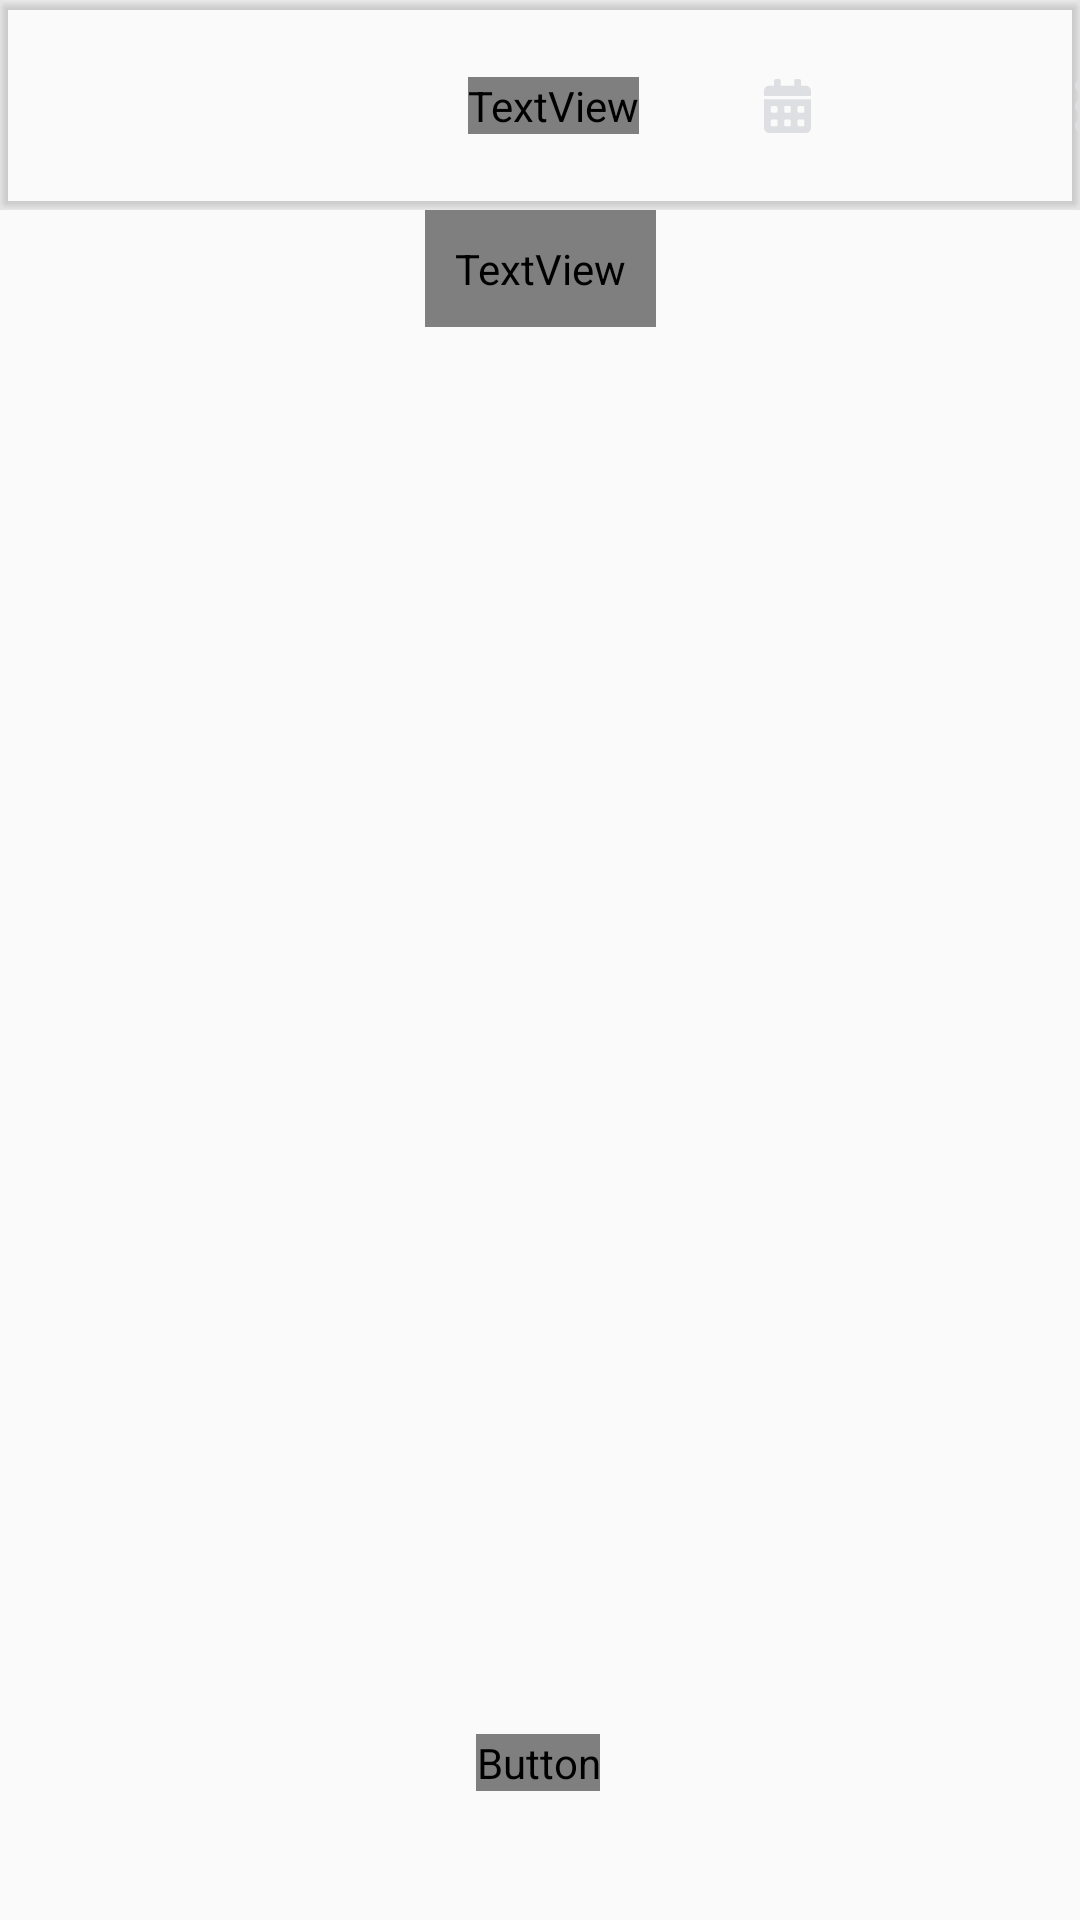

Point at icon controls on the screen. Image size 1080 x 1920, points as point (x, y).
Calendar button: point (787, 106)
